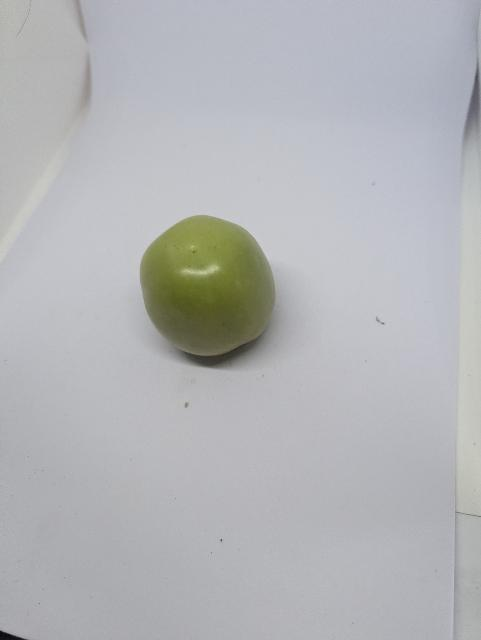green: (120, 208, 282, 362)
